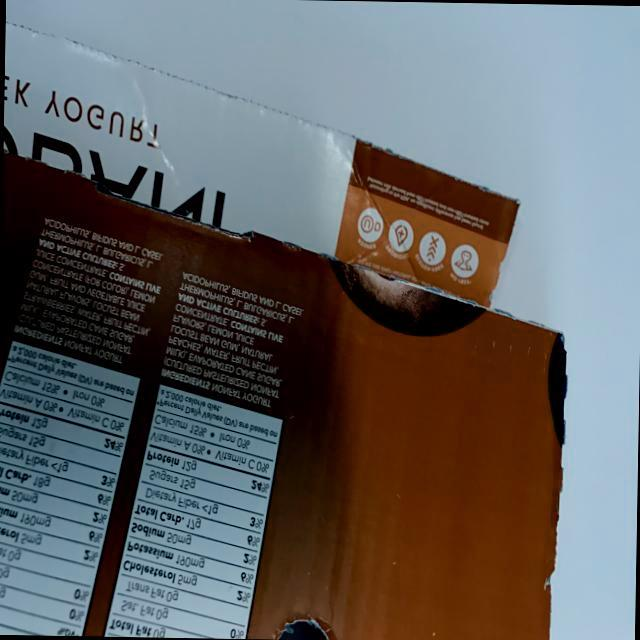cardboard: (0, 12, 583, 640)
